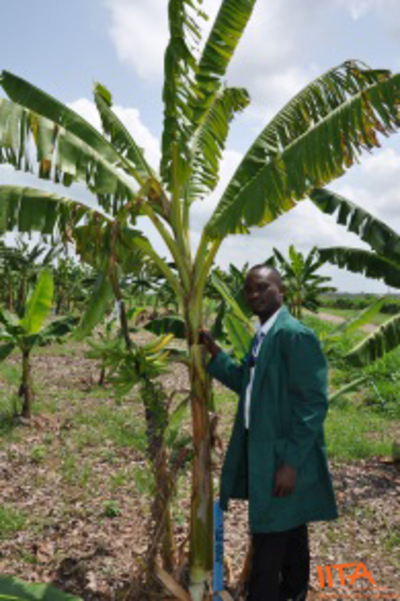bananaHand: (81, 318, 182, 400)
